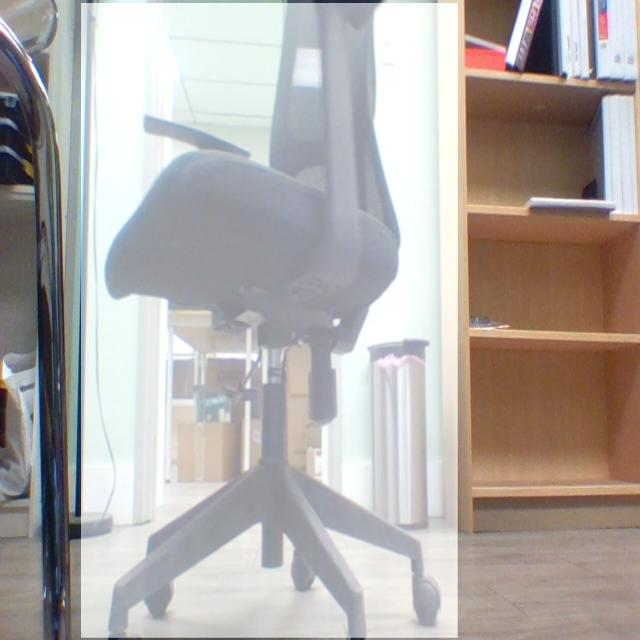black-chair: (81, 3, 459, 639)
